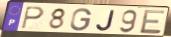8: (48, 7, 67, 31)
9: (119, 9, 138, 34)
E: (139, 9, 167, 35)
G: (69, 8, 94, 32)
J: (95, 9, 116, 33)
P: (20, 6, 45, 30)
